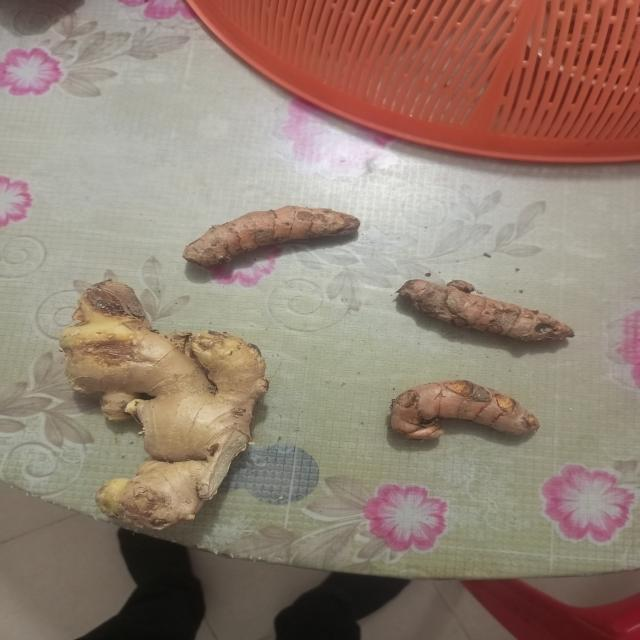ginger: (69, 287, 265, 525), (399, 278, 575, 342), (182, 205, 362, 258), (389, 380, 536, 442)
